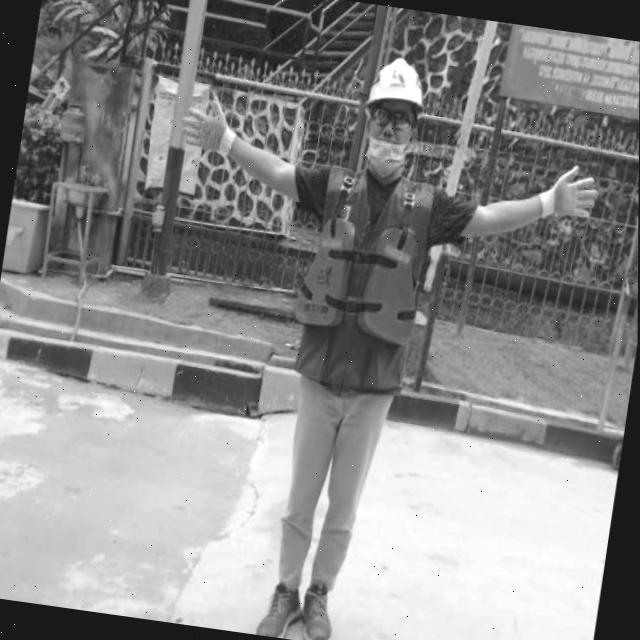goggles_on: (369, 102, 416, 133)
